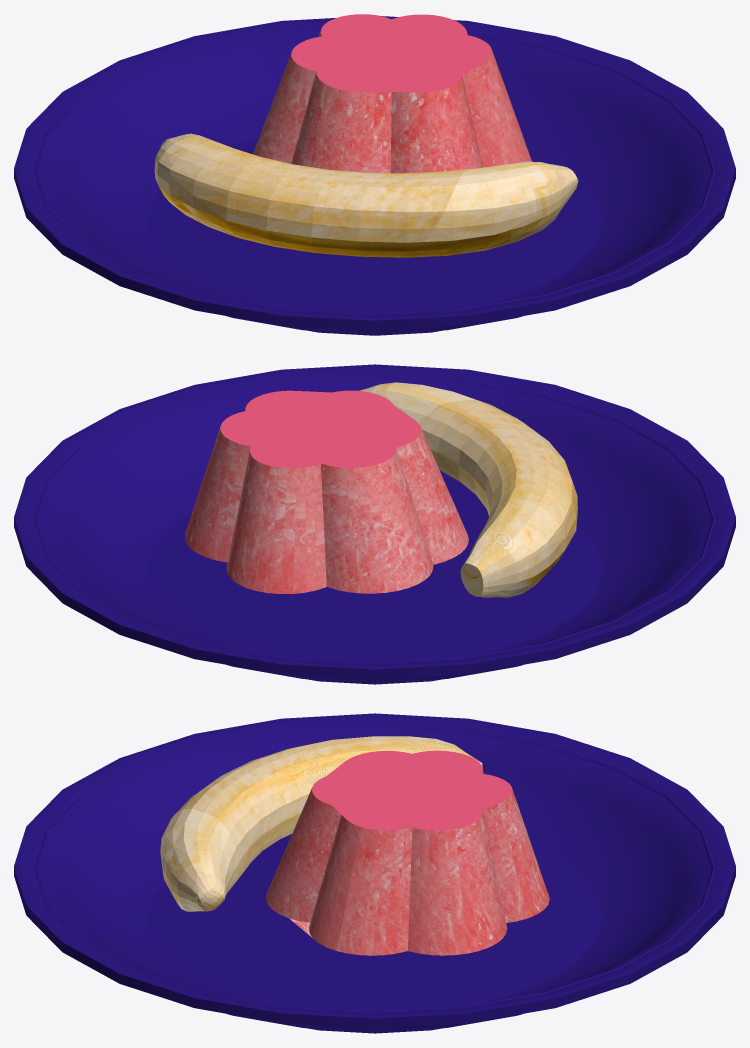
File: pisang dan puding.fbx
The picture shows the model from 3 angles, top to bottom: view 1: azimuth 30°, elevation 25°; view 2: azimuth 150°, elevation 25°; view 3: azimuth 270°, elevation 25°; orthographic projection.
Visible parts, largest first — view 1: piring, pudink jink, banana12; view 2: piring, pudink jink, banana12; view 3: piring, pudink jink, banana12.
Part boxes in pixels (x1,y1,x2,y2): piring: (14, 16, 735, 335); pudink jink: (253, 14, 531, 173); banana12: (154, 133, 578, 257); piring: (14, 364, 735, 684); pudink jink: (185, 390, 468, 593); banana12: (359, 382, 577, 597); piring: (14, 713, 735, 1033); pudink jink: (266, 750, 549, 955); banana12: (160, 736, 482, 911).
Bounding box in the file's own units: 9706 × 2501 × 9706.
